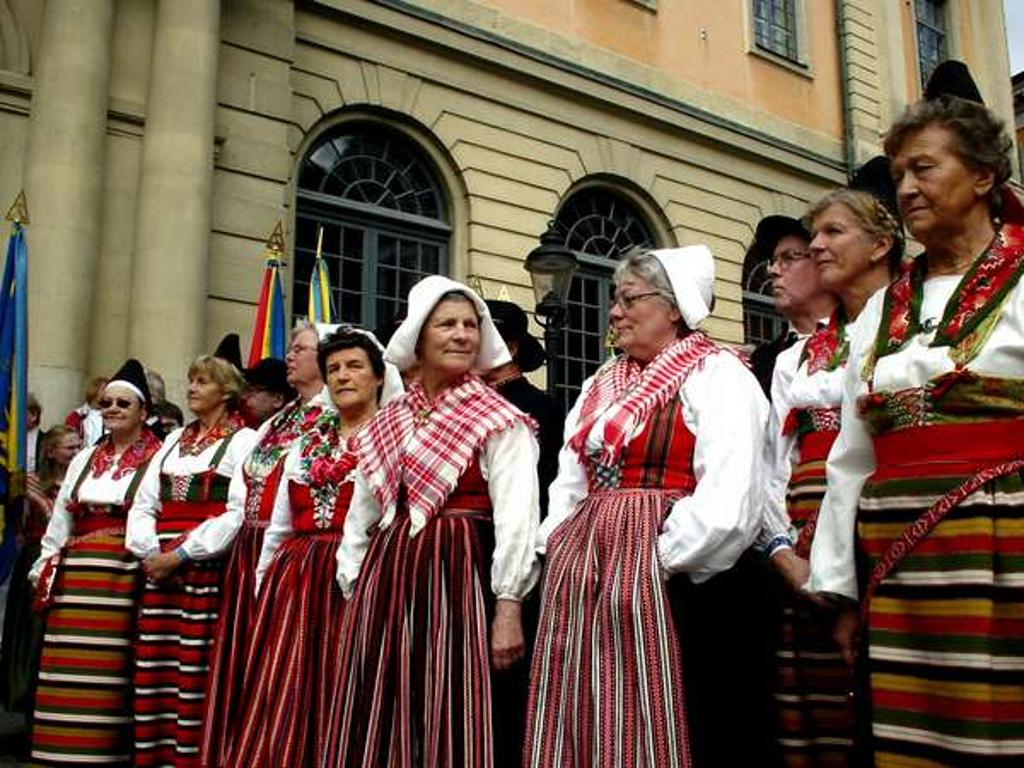face: (891, 139, 977, 233), (809, 210, 876, 285), (611, 277, 670, 348), (424, 305, 478, 370), (770, 236, 818, 307), (323, 349, 376, 405), (286, 335, 321, 384), (102, 387, 140, 429), (240, 378, 273, 424), (186, 369, 221, 406), (53, 435, 81, 465), (155, 417, 178, 446), (24, 407, 36, 427)
